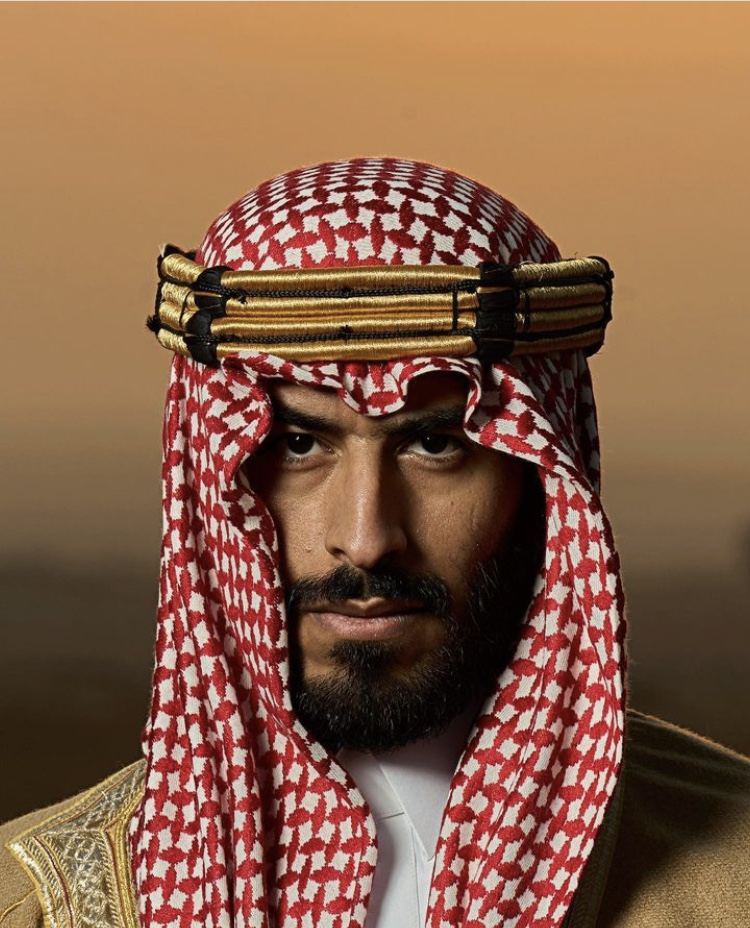Saudi_Founding_Day: (2, 156, 749, 927)
